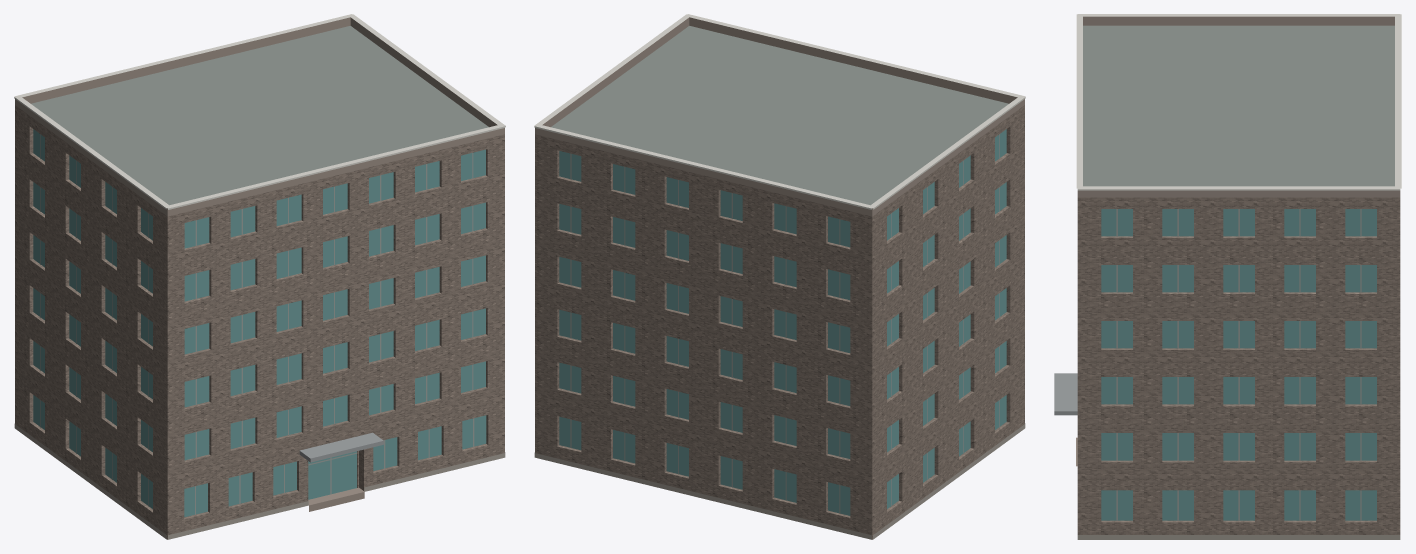
3 views of the same model, side by side, from view 1: azimuth 30°, elevation 25°; view 2: azimuth 150°, elevation 25°; view 3: azimuth 270°, elevation 25° (orthographic). The views are drawn at different scales.
Visible parts, largest first — view 1: pastoral__wall, pastoral__roof, pastoral__glass, pastoral__parapet, pastoral__trim, pastoral__frame, pastoral__base, pastoral__canopy, pastoral__entranceThreshold_0; view 2: pastoral__wall, pastoral__roof, pastoral__glass, pastoral__parapet, pastoral__trim, pastoral__base, pastoral__frame; view 3: pastoral__wall, pastoral__roof, pastoral__glass, pastoral__parapet, pastoral__trim, pastoral__frame, pastoral__base, pastoral__canopy.
Boxes of the visible parts, left/top/right/bottom form: pastoral__wall: left=15, top=105, right=504, bottom=539; pastoral__roof: left=31, top=26, right=488, bottom=539; pastoral__glass: left=33, top=129, right=486, bottom=517; pastoral__parapet: left=15, top=17, right=504, bottom=216; pastoral__trim: left=14, top=14, right=505, bottom=209; pastoral__frame: left=40, top=134, right=474, bottom=514; pastoral__base: left=14, top=423, right=505, bottom=539; pastoral__canopy: left=299, top=432, right=383, bottom=462; pastoral__entranceThreshold_0: left=308, top=487, right=364, bottom=511; pastoral__wall: left=535, top=105, right=1024, bottom=539; pastoral__roof: left=551, top=26, right=1008, bottom=539; pastoral__glass: left=559, top=129, right=1006, bottom=515; pastoral__parapet: left=535, top=17, right=1024, bottom=216; pastoral__trim: left=534, top=14, right=1025, bottom=209; pastoral__base: left=534, top=423, right=1025, bottom=539; pastoral__frame: left=570, top=134, right=999, bottom=513; pastoral__wall: left=1077, top=197, right=1400, bottom=534; pastoral__roof: left=1083, top=25, right=1394, bottom=186; pastoral__glass: left=1101, top=209, right=1376, bottom=520; pastoral__parapet: left=1077, top=16, right=1400, bottom=197; pastoral__trim: left=1076, top=14, right=1401, bottom=190; pastoral__frame: left=1116, top=209, right=1361, bottom=520; pastoral__base: left=1077, top=535, right=1400, bottom=539; pastoral__canopy: left=1054, top=373, right=1077, bottom=415.
Size of the model in its own units: 23.12 by 22 by 19.36.
10 materials, 1 textured.
